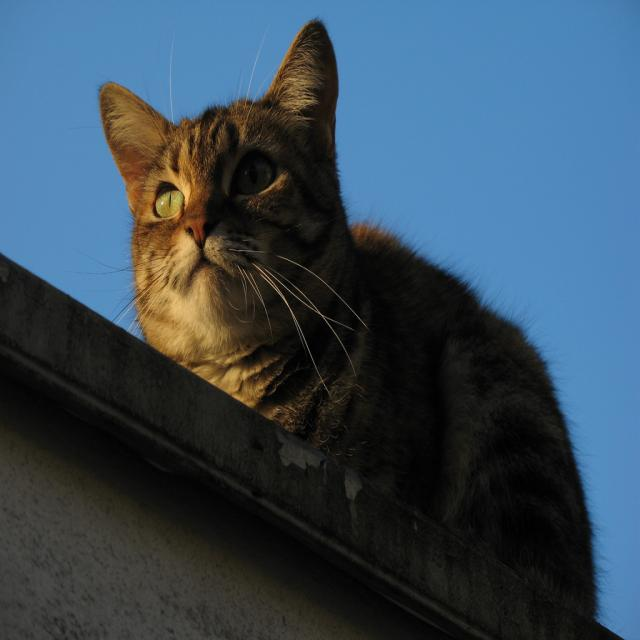cat: (93, 16, 607, 625)
